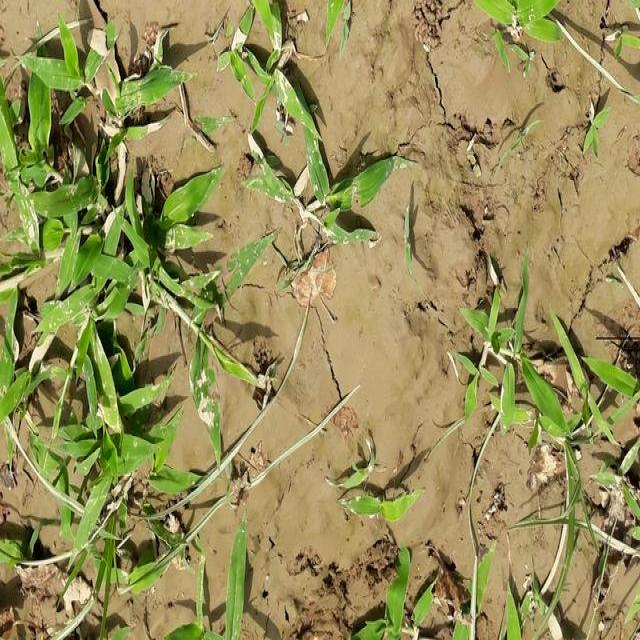weed: (0, 0, 217, 559), (446, 264, 640, 549), (238, 131, 389, 251), (362, 559, 500, 640), (224, 3, 312, 128), (154, 549, 259, 640), (326, 450, 424, 523), (473, 2, 568, 46), (502, 100, 538, 164), (0, 511, 42, 565), (318, 0, 357, 53), (502, 583, 534, 639), (402, 196, 422, 269), (610, 24, 639, 66), (580, 108, 604, 157)
